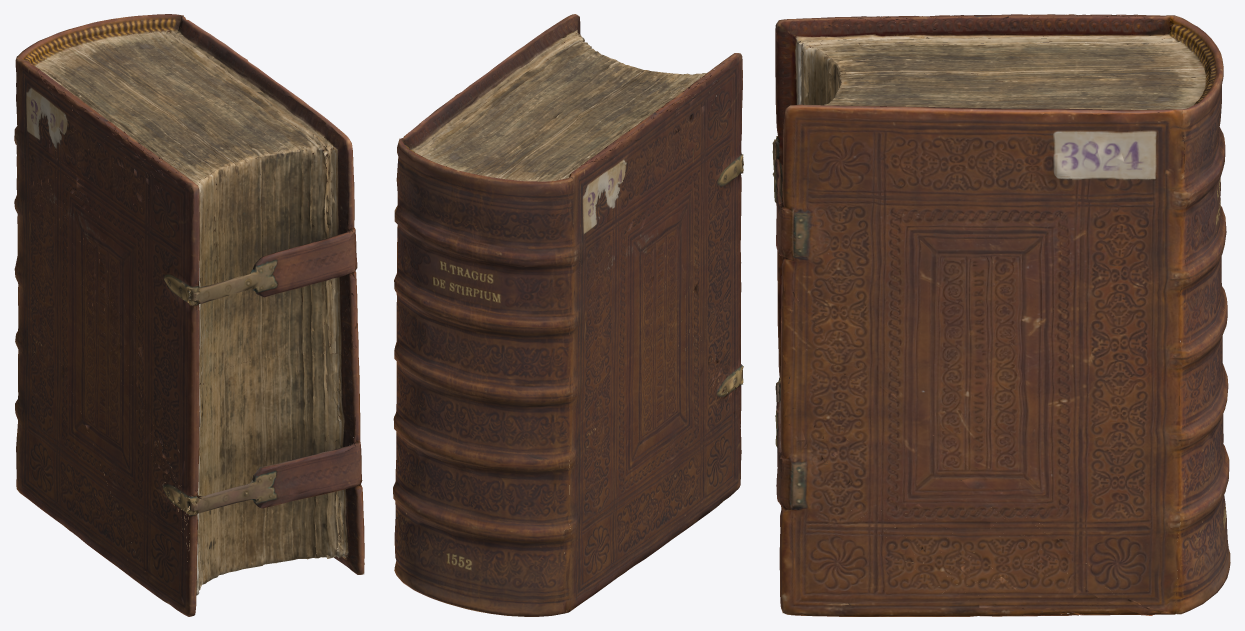
Rendered from Book.fbx.
3 views of the same model, side by side, from view 1: azimuth 30°, elevation 25°; view 2: azimuth 150°, elevation 25°; view 3: azimuth 270°, elevation 25° (orthographic). The views are drawn at different scales.
Parts seen in each view (by area): view 1: Object_2; view 2: Object_2; view 3: Object_2.
Part boxes in pixels (x1=…): Object_2: x1=14, y1=14, x2=364, y2=616; Object_2: x1=393, y1=14, x2=743, y2=616; Object_2: x1=772, y1=14, x2=1230, y2=616.
Size of the model in its own units: 1036 by 2374 by 1951.
Materials: 1 (1 with a texture image).
